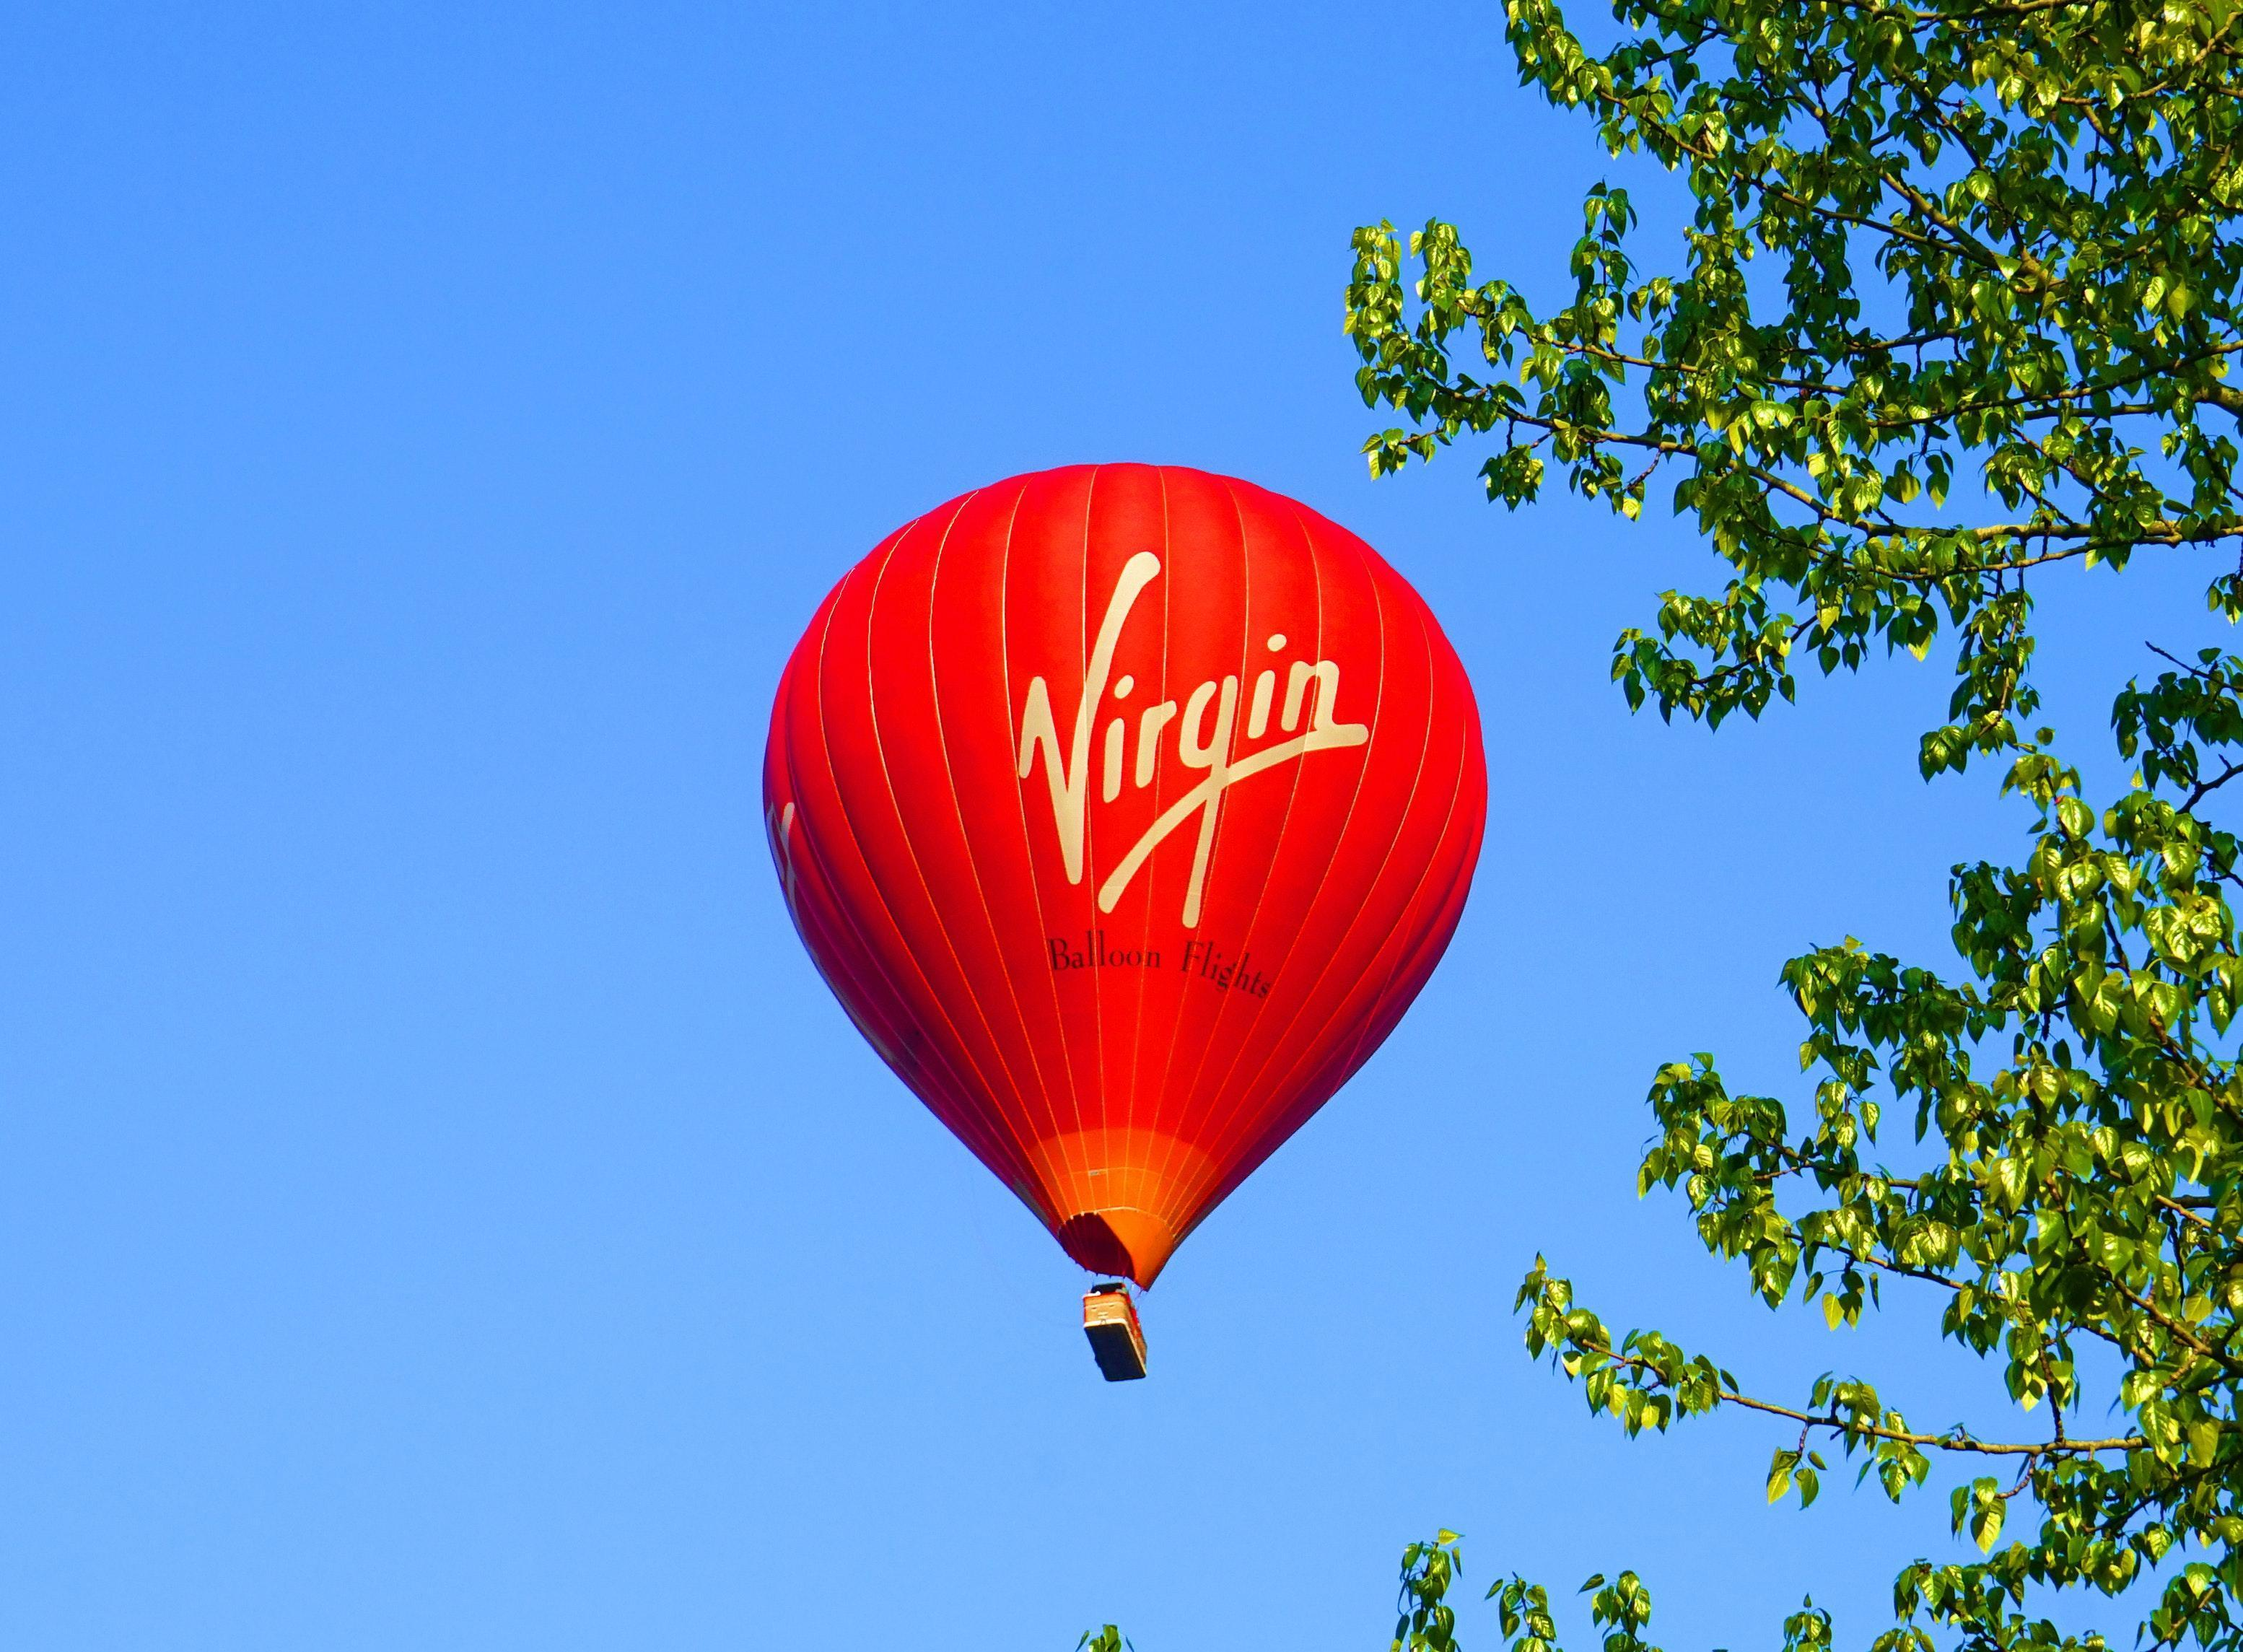hot air ballon: (759, 461, 1492, 1391)
